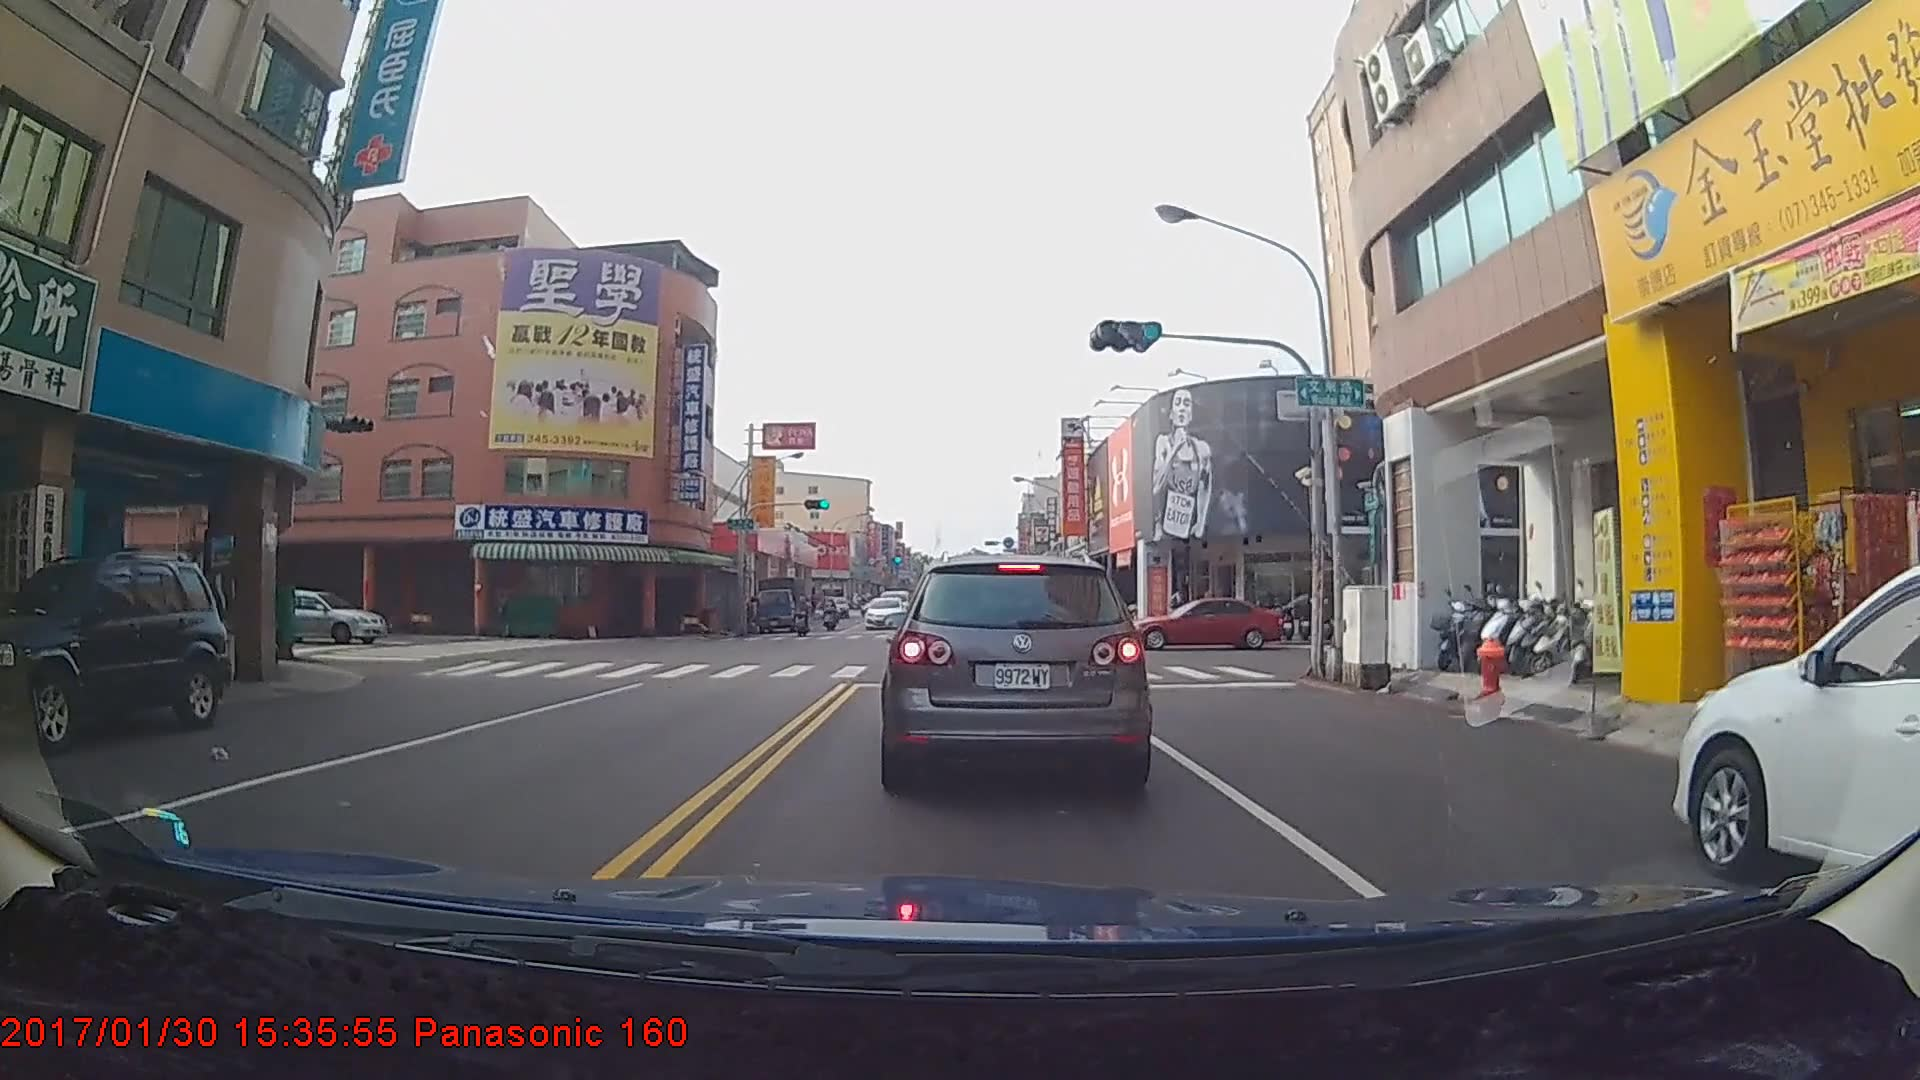rider: (787, 592, 816, 635), (823, 594, 846, 633)
vehicle: (1674, 538, 1920, 940), (886, 549, 1146, 790), (0, 548, 223, 747), (1124, 593, 1285, 647), (244, 582, 392, 638), (753, 575, 808, 633), (861, 593, 906, 630)
